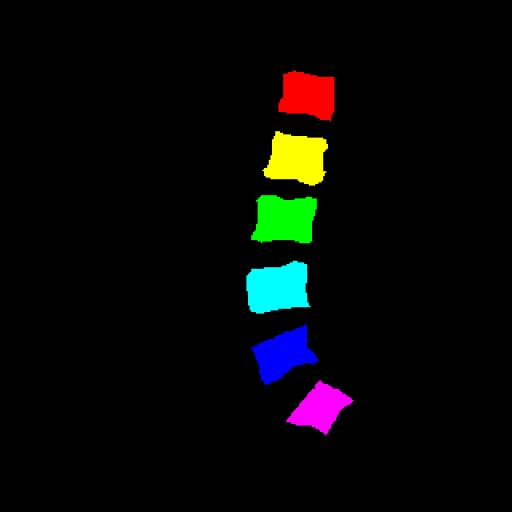L1: (278, 71, 334, 120)
L2: (263, 131, 328, 186)
L3: (251, 195, 317, 243)
L4: (246, 261, 310, 314)
L5: (252, 325, 318, 384)
S1: (286, 381, 353, 434)
